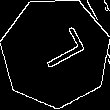L_SW: (26, 27, 85, 78)
